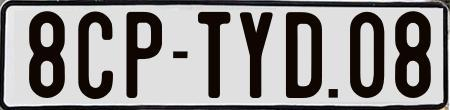0: (348, 10, 387, 99)
8: (29, 11, 68, 104), (393, 9, 431, 102)
C: (77, 9, 117, 103)
D: (284, 11, 323, 100)
P: (126, 11, 163, 97)
T: (195, 12, 232, 103)
Y: (240, 12, 273, 102)
